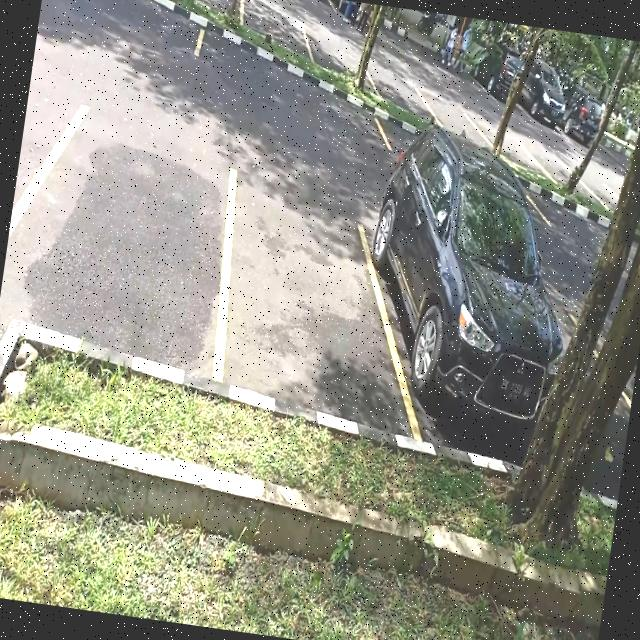empty: (0, 106, 249, 370), (199, 168, 397, 425)
occupied: (341, 178, 585, 467)
